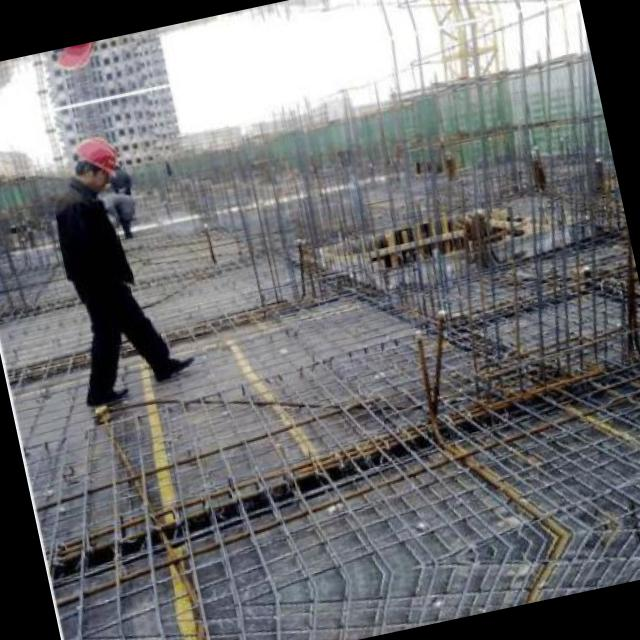helmet: (64, 128, 125, 196), (44, 41, 101, 80)
